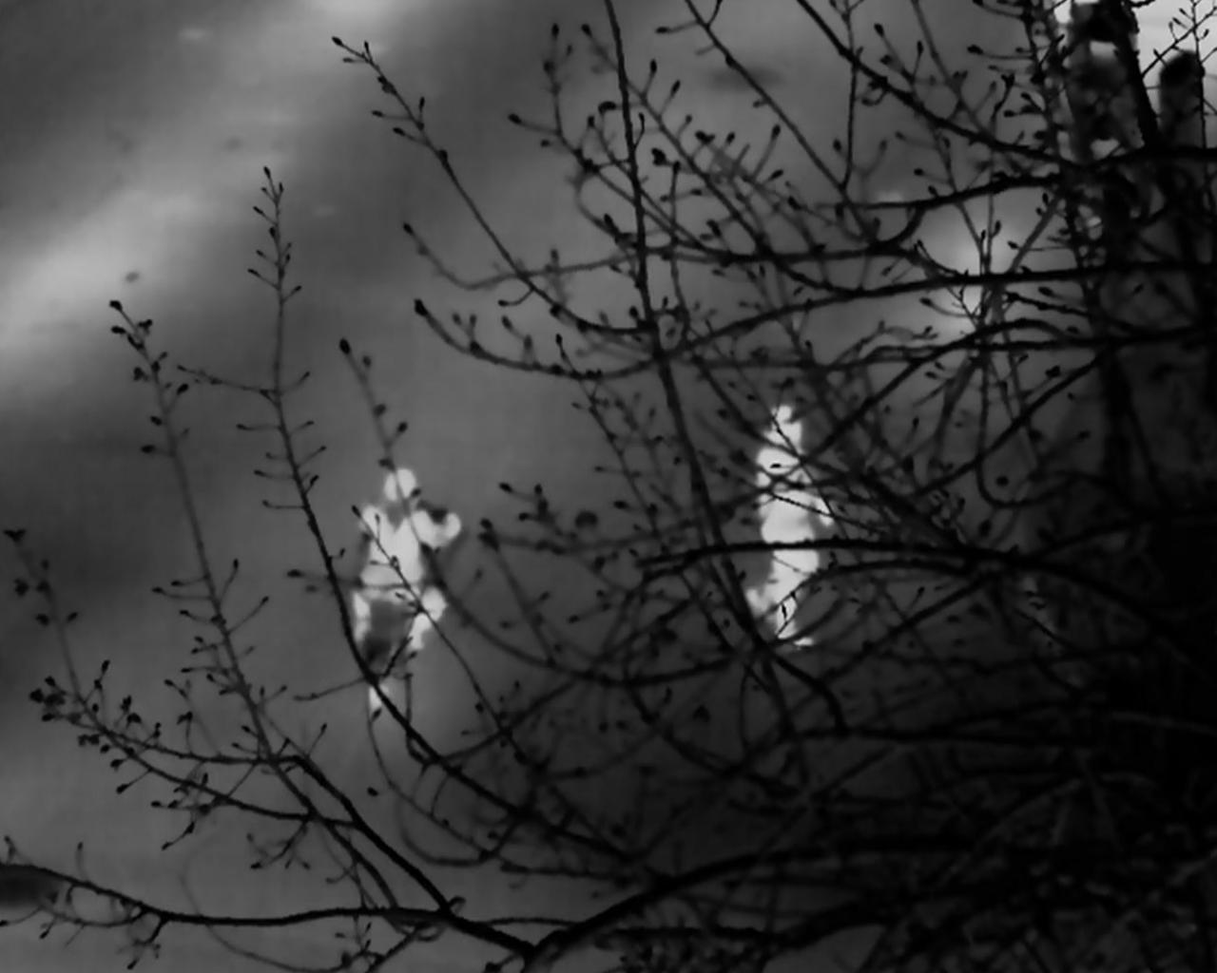person: (738, 412, 853, 640), (362, 467, 461, 654)
